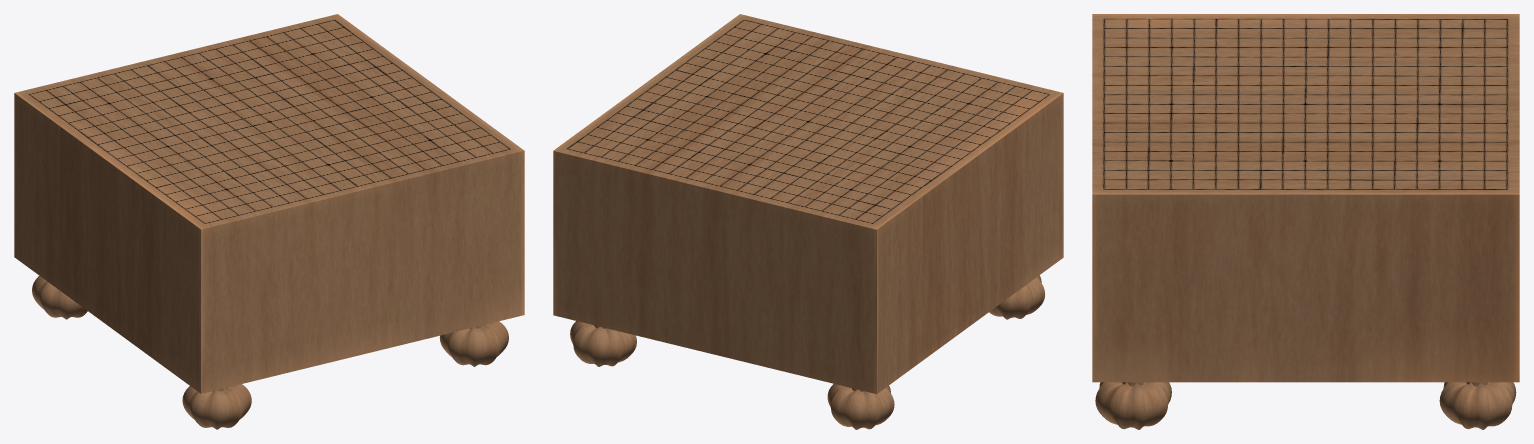
File: go_board.glb
3 renders of one model, left to right at view 1: azimuth 30°, elevation 25°; view 2: azimuth 150°, elevation 25°; view 3: azimuth 270°, elevation 25°, orthographic. The views are drawn at different scales.
Visible parts, largest first — view 1: pCube1, pSphere3, pSphere1, pSphere7; view 2: pCube1, pSphere7, pSphere5, pSphere3; view 3: pCube1, pSphere1, pSphere5.
Part boxes in pixels (x1,y1,x2,y2): pCube1: [14, 14, 524, 393]; pSphere3: [182, 384, 251, 429]; pSphere1: [439, 321, 508, 366]; pSphere7: [32, 276, 87, 319]; pCube1: [553, 14, 1063, 394]; pSphere7: [827, 384, 894, 429]; pSphere5: [570, 321, 636, 366]; pSphere3: [989, 275, 1045, 319]; pCube1: [1092, 14, 1519, 382]; pSphere1: [1095, 382, 1171, 429]; pSphere5: [1439, 382, 1516, 429].
Bounding box in the file's own units: 0.9028 × 0.5773 × 0.9028.
2 materials, 2 textured.
